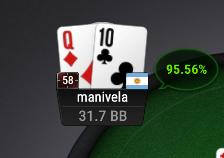10c: (95, 23, 148, 88)
Qd: (56, 22, 95, 89)
